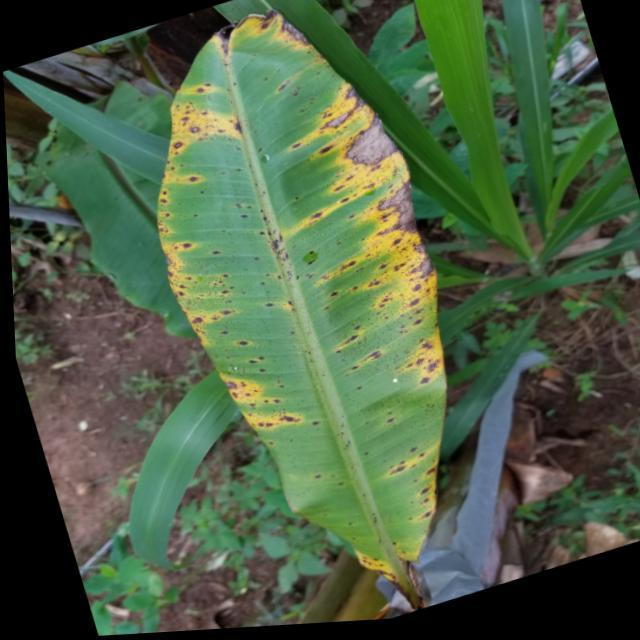Early_rust: (143, 3, 469, 606)
